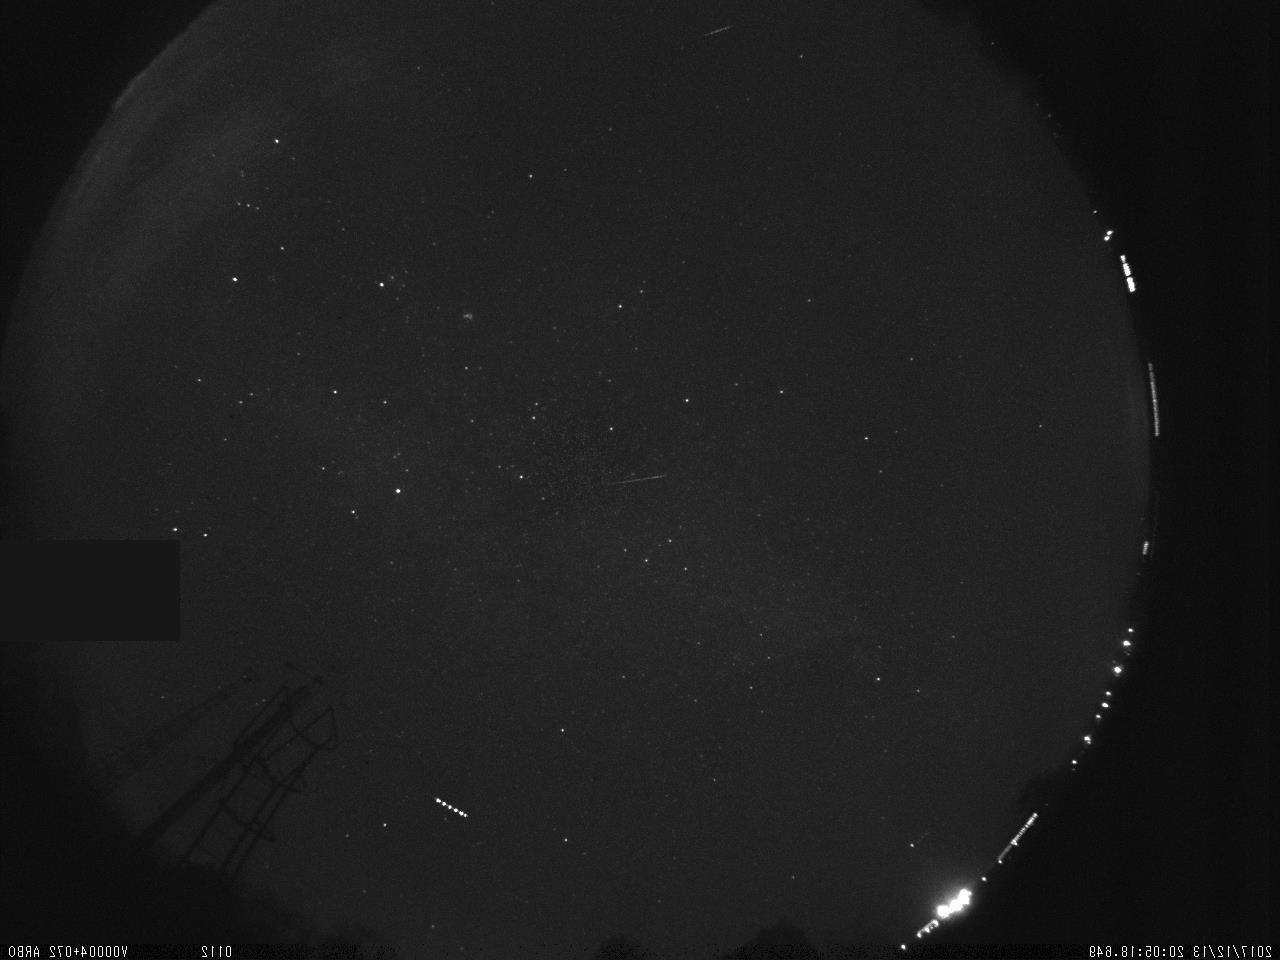meteor: (600, 464, 679, 496), (694, 22, 739, 43)
satelite: (432, 789, 473, 825)
